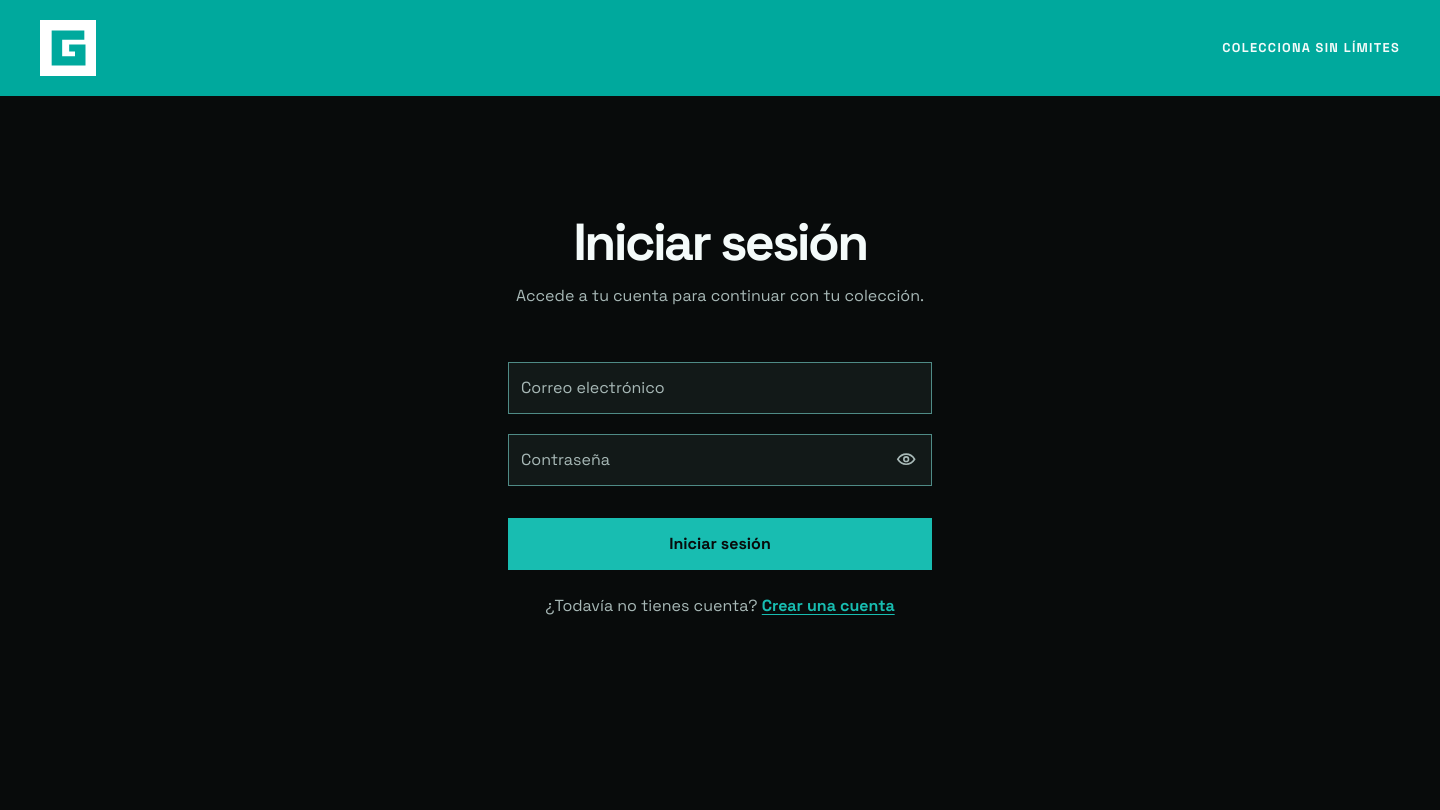
Test: autenticación › navega entre acceso y registro mediante rutas públicas
Expected: the heading "Iniciar sesión" is shown, [573,209,867,275]
Step 1. Click the link "Crear una cuenta" → (828,605), box [762,595,895,616]
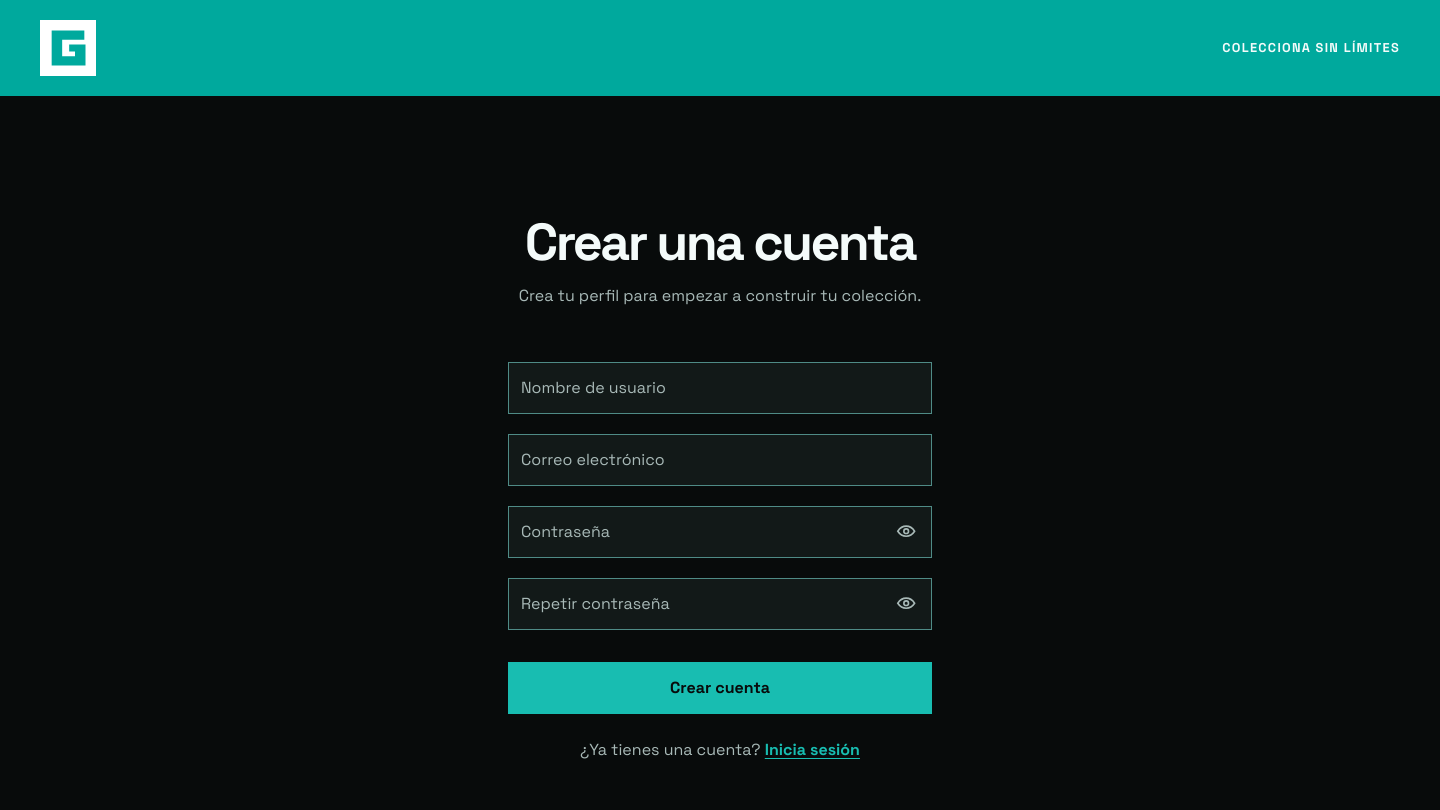
Result: the heading "Crear una cuenta" is shown at [508,216,932,268]
Result: the text "Crea tu perfil para empezar a construir tu colección." is shown at [508,284,932,309]
Result: the password field labelled "Repetir contraseña" is shown at [508,578,932,630]
